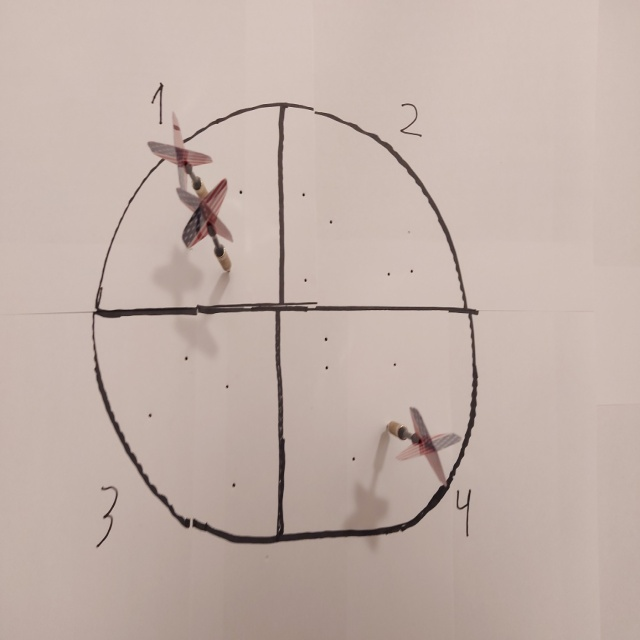Dart: (380, 405, 463, 489), (169, 181, 235, 279), (144, 113, 215, 198)
